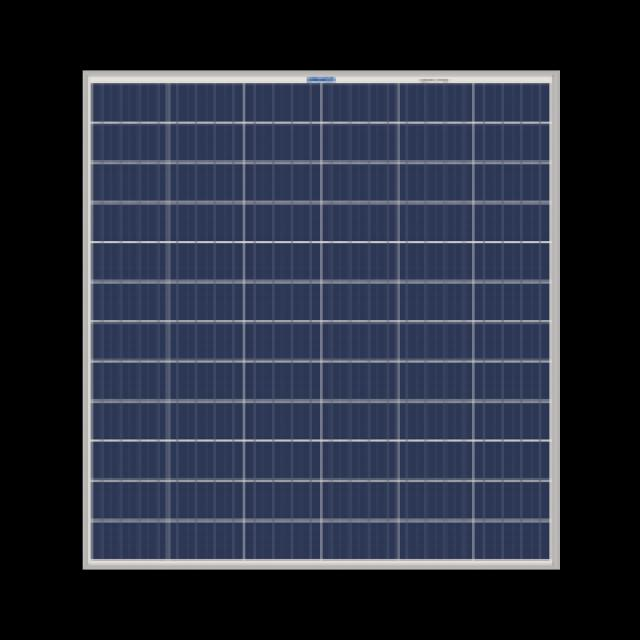no faulty: (86, 79, 562, 564)
